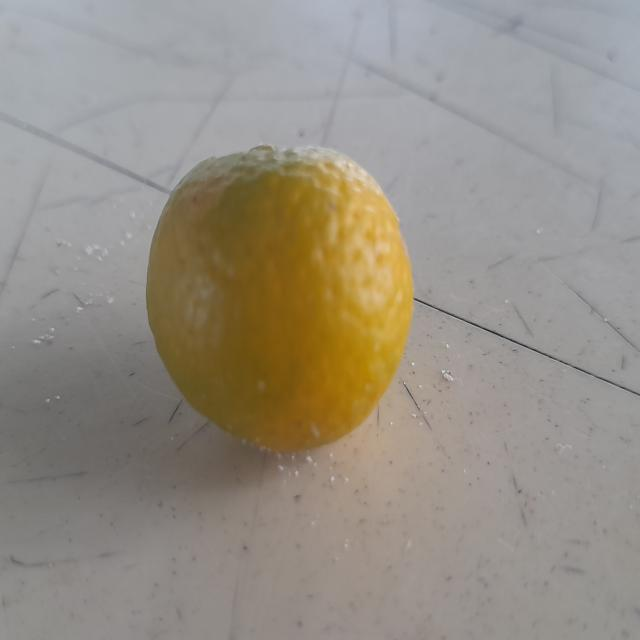greening: (140, 126, 410, 480)
